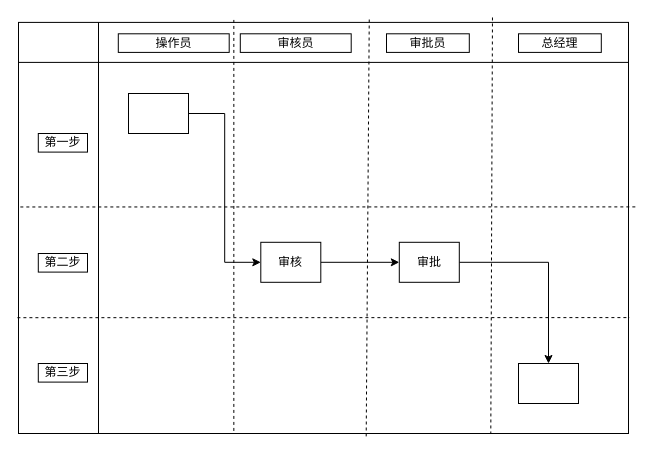
Some shapes in this 657 by 455 pixel diagram are drawn without their labels. The shapes that lost their labels are listed below. From the top down, each one's centre as x and y in pixels, then its label:
At (x=158, y=113): "申请".
At (x=548, y=383): "通过".
